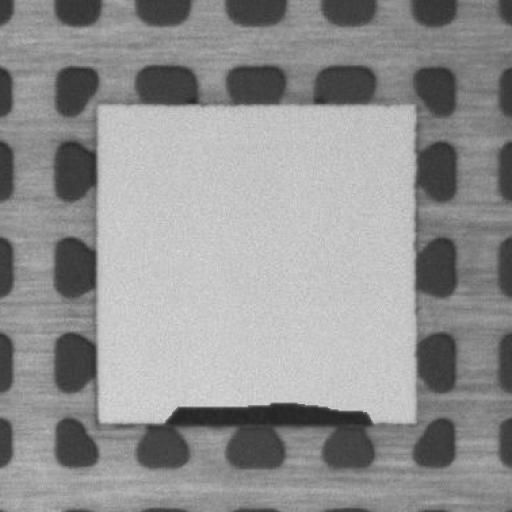DIE_BROKEN: (161, 397, 371, 430)
